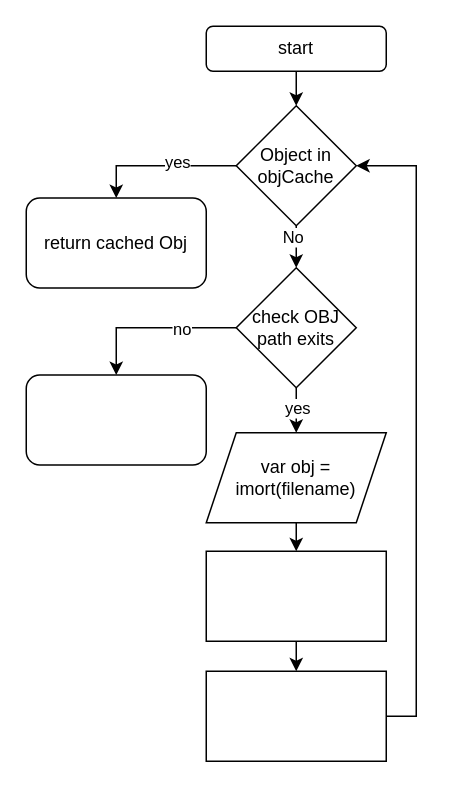
Some shapes in this 455 by 788 pixel diagram are drawn without their labels. Each missing label, with the box of its shape:
OBJ.POS = {100, 1000, 100}: (205, 550, 386, 641)
return placeholder: (25, 374, 206, 465)
STORE obj in objCache: (205, 670, 386, 761)
